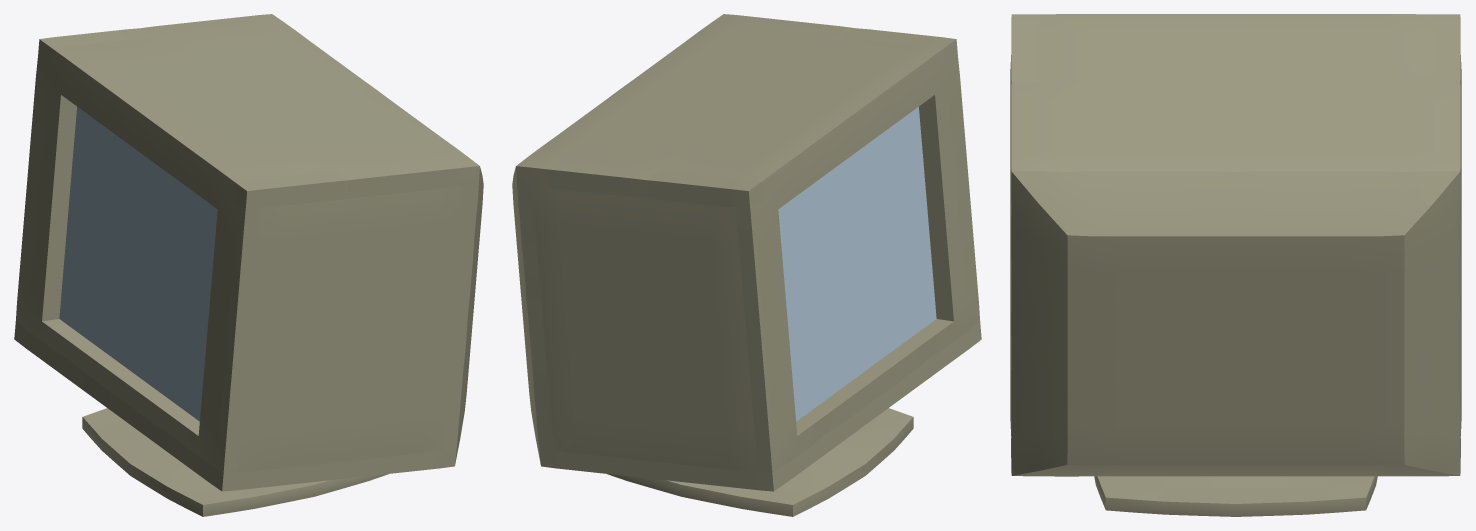
The model's file is Monitor.fbx.
The picture shows the model from 3 angles, left to right: view 1: azimuth 30°, elevation 25°; view 2: azimuth 150°, elevation 25°; view 3: azimuth 270°, elevation 25°; orthographic projection. The views are drawn at different scales.
Visible parts, largest first — view 1: Monitor; view 2: Monitor; view 3: Monitor.
Boxes of the visible parts, x1,y1,x2,y2 form: Monitor: [14, 14, 483, 516]; Monitor: [512, 14, 981, 516]; Monitor: [1010, 14, 1461, 516].
Size of the model in its own units: 141 by 167 by 176.
